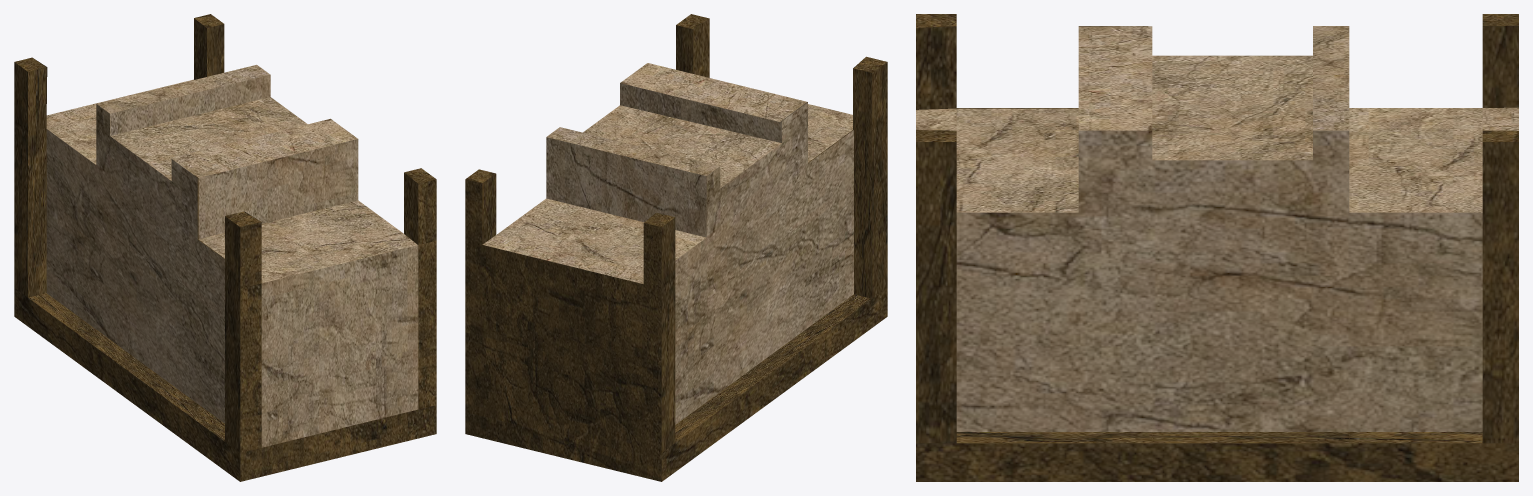
File: Yamato_wall_onConstruction.fbx
3 renders of one model, left to right at view 1: azimuth 30°, elevation 25°; view 2: azimuth 150°, elevation 25°; view 3: azimuth 270°, elevation 25°, orthographic. The views are drawn at different scales.
Visible parts, largest first — view 1: Cube; view 2: Cube; view 3: Cube.
Part boxes in pixels (x1,y1,x2,y2): Cube: (14, 14, 436, 481); Cube: (465, 14, 887, 481); Cube: (916, 14, 1518, 481).
Size of the model in its own units: 220 by 273 by 438.
1 material, 1 textured.
